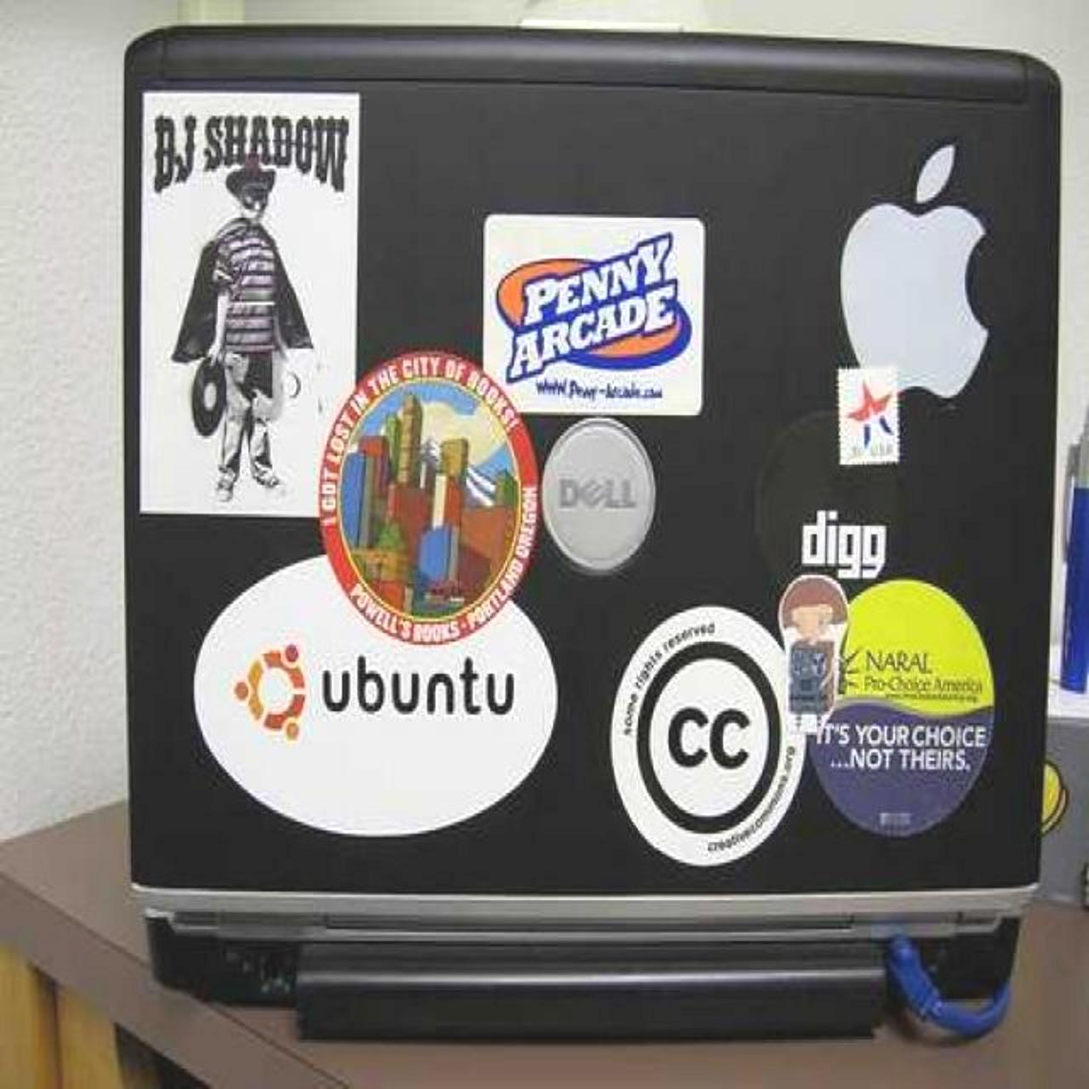laptop: (84, 30, 1066, 1025)
